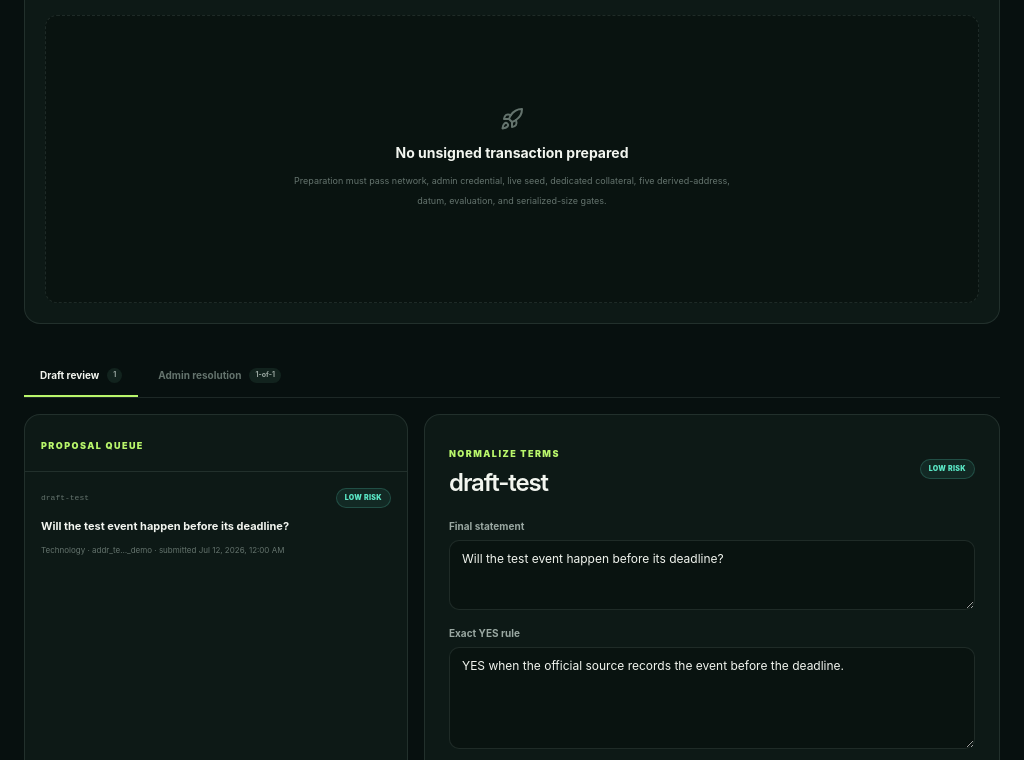
Test: AdminPage resolution authority › collects one transparent admin signature instead of committee votes
(page scrolled)
Click the button "Admin resolution 1-of-1" at (220, 376), box [142, 356, 297, 397]
(page scrolled)
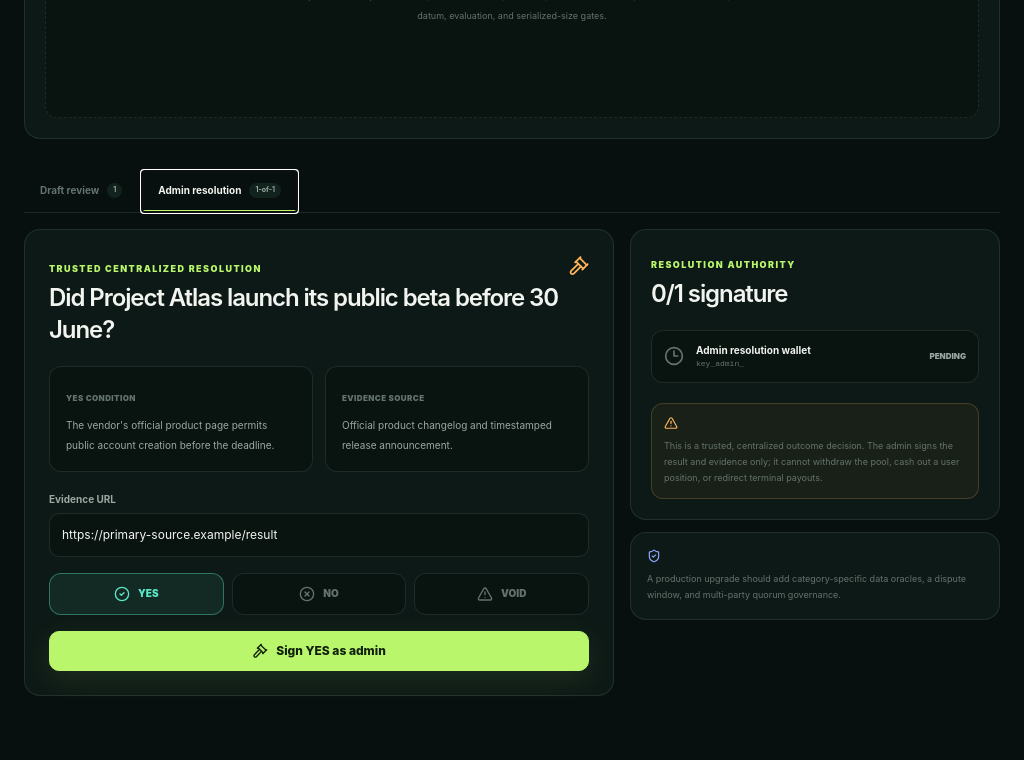
Now the heading "0/1 signature" is shown, box [651, 279, 787, 308]
Now the text "trusted, centralized outcome decision" is shown, box [664, 440, 959, 483]
Click the button "Sign YES as admin" at (319, 651), box [49, 631, 589, 671]
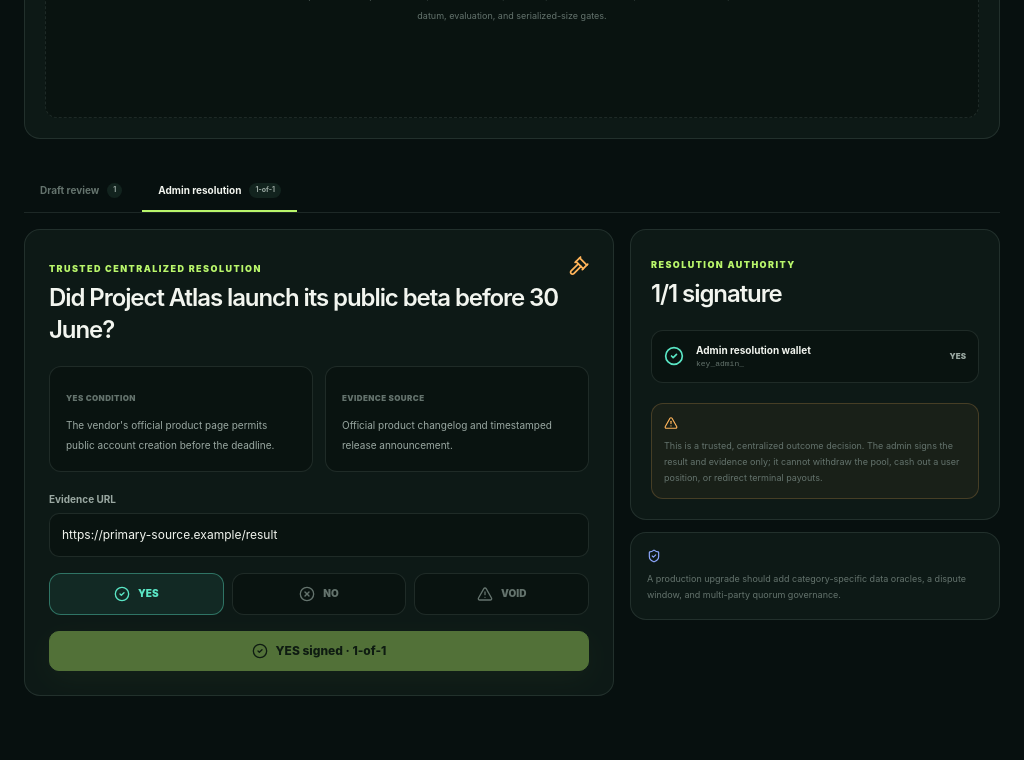
Now the text "cannot withdraw the pool" is shown, box [664, 440, 959, 483]
Now the button "YES signed · 1-of-1" is shown, box [49, 631, 589, 671]
Now the heading "1/1 signature" is shown, box [651, 279, 782, 308]
